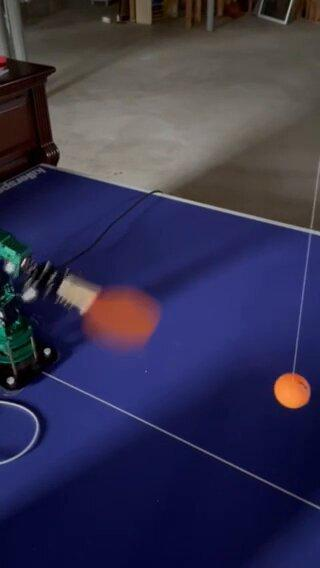oball: (273, 372, 311, 408)
